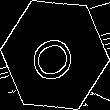O_NE: (26, 25, 84, 85)
